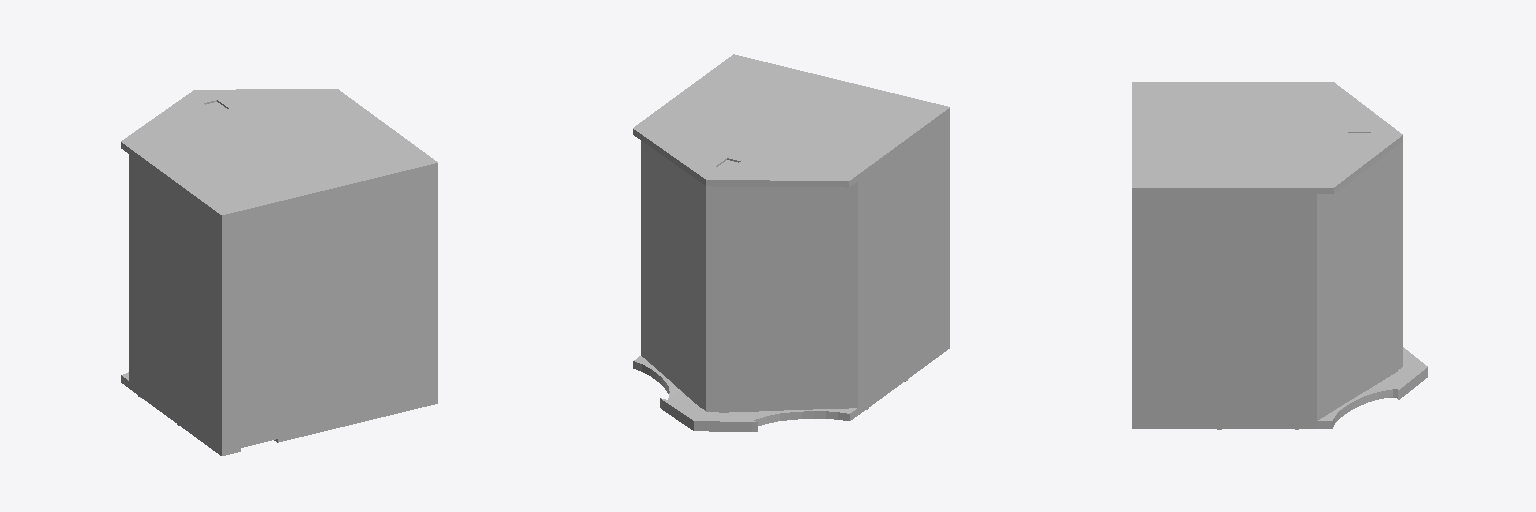
Rendered from Dom_Esterki.obj.
The picture shows the model from 3 angles: view 1: azimuth 30°, elevation 25°; view 2: azimuth 150°, elevation 25°; view 3: azimuth 270°, elevation 25°; orthographic projection.
Parts seen in each view (by area): view 1: Cube_Cube.001; view 2: Cube_Cube.001; view 3: Cube_Cube.001.
Boxes of the visible parts, box(x1,y1,x2,y2) form: Cube_Cube.001: box(121, 89, 437, 455); Cube_Cube.001: box(633, 54, 949, 431); Cube_Cube.001: box(1132, 82, 1427, 429).
Bounding box in the file's own units: 0.0344 × 0.0368 × 0.0408.